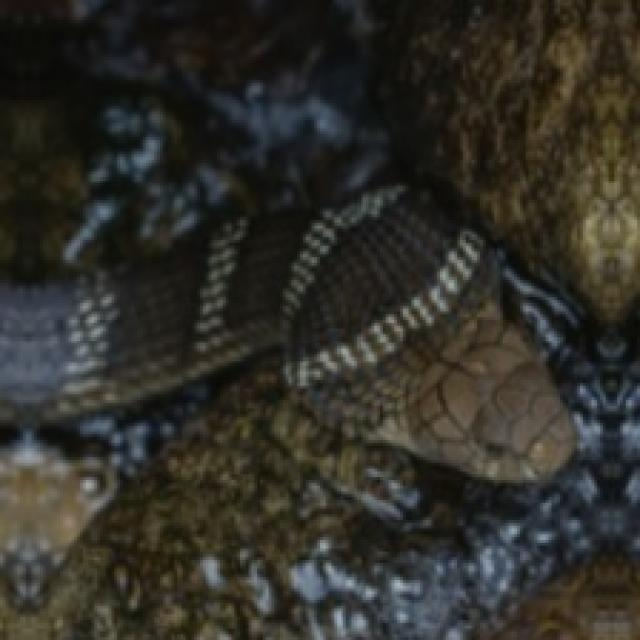king cobra: (0, 186, 574, 637)
